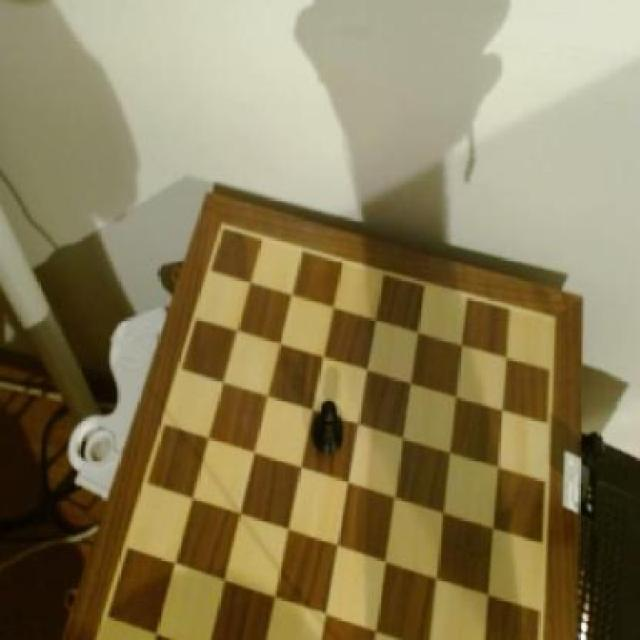black-knight: (310, 392, 348, 462)
